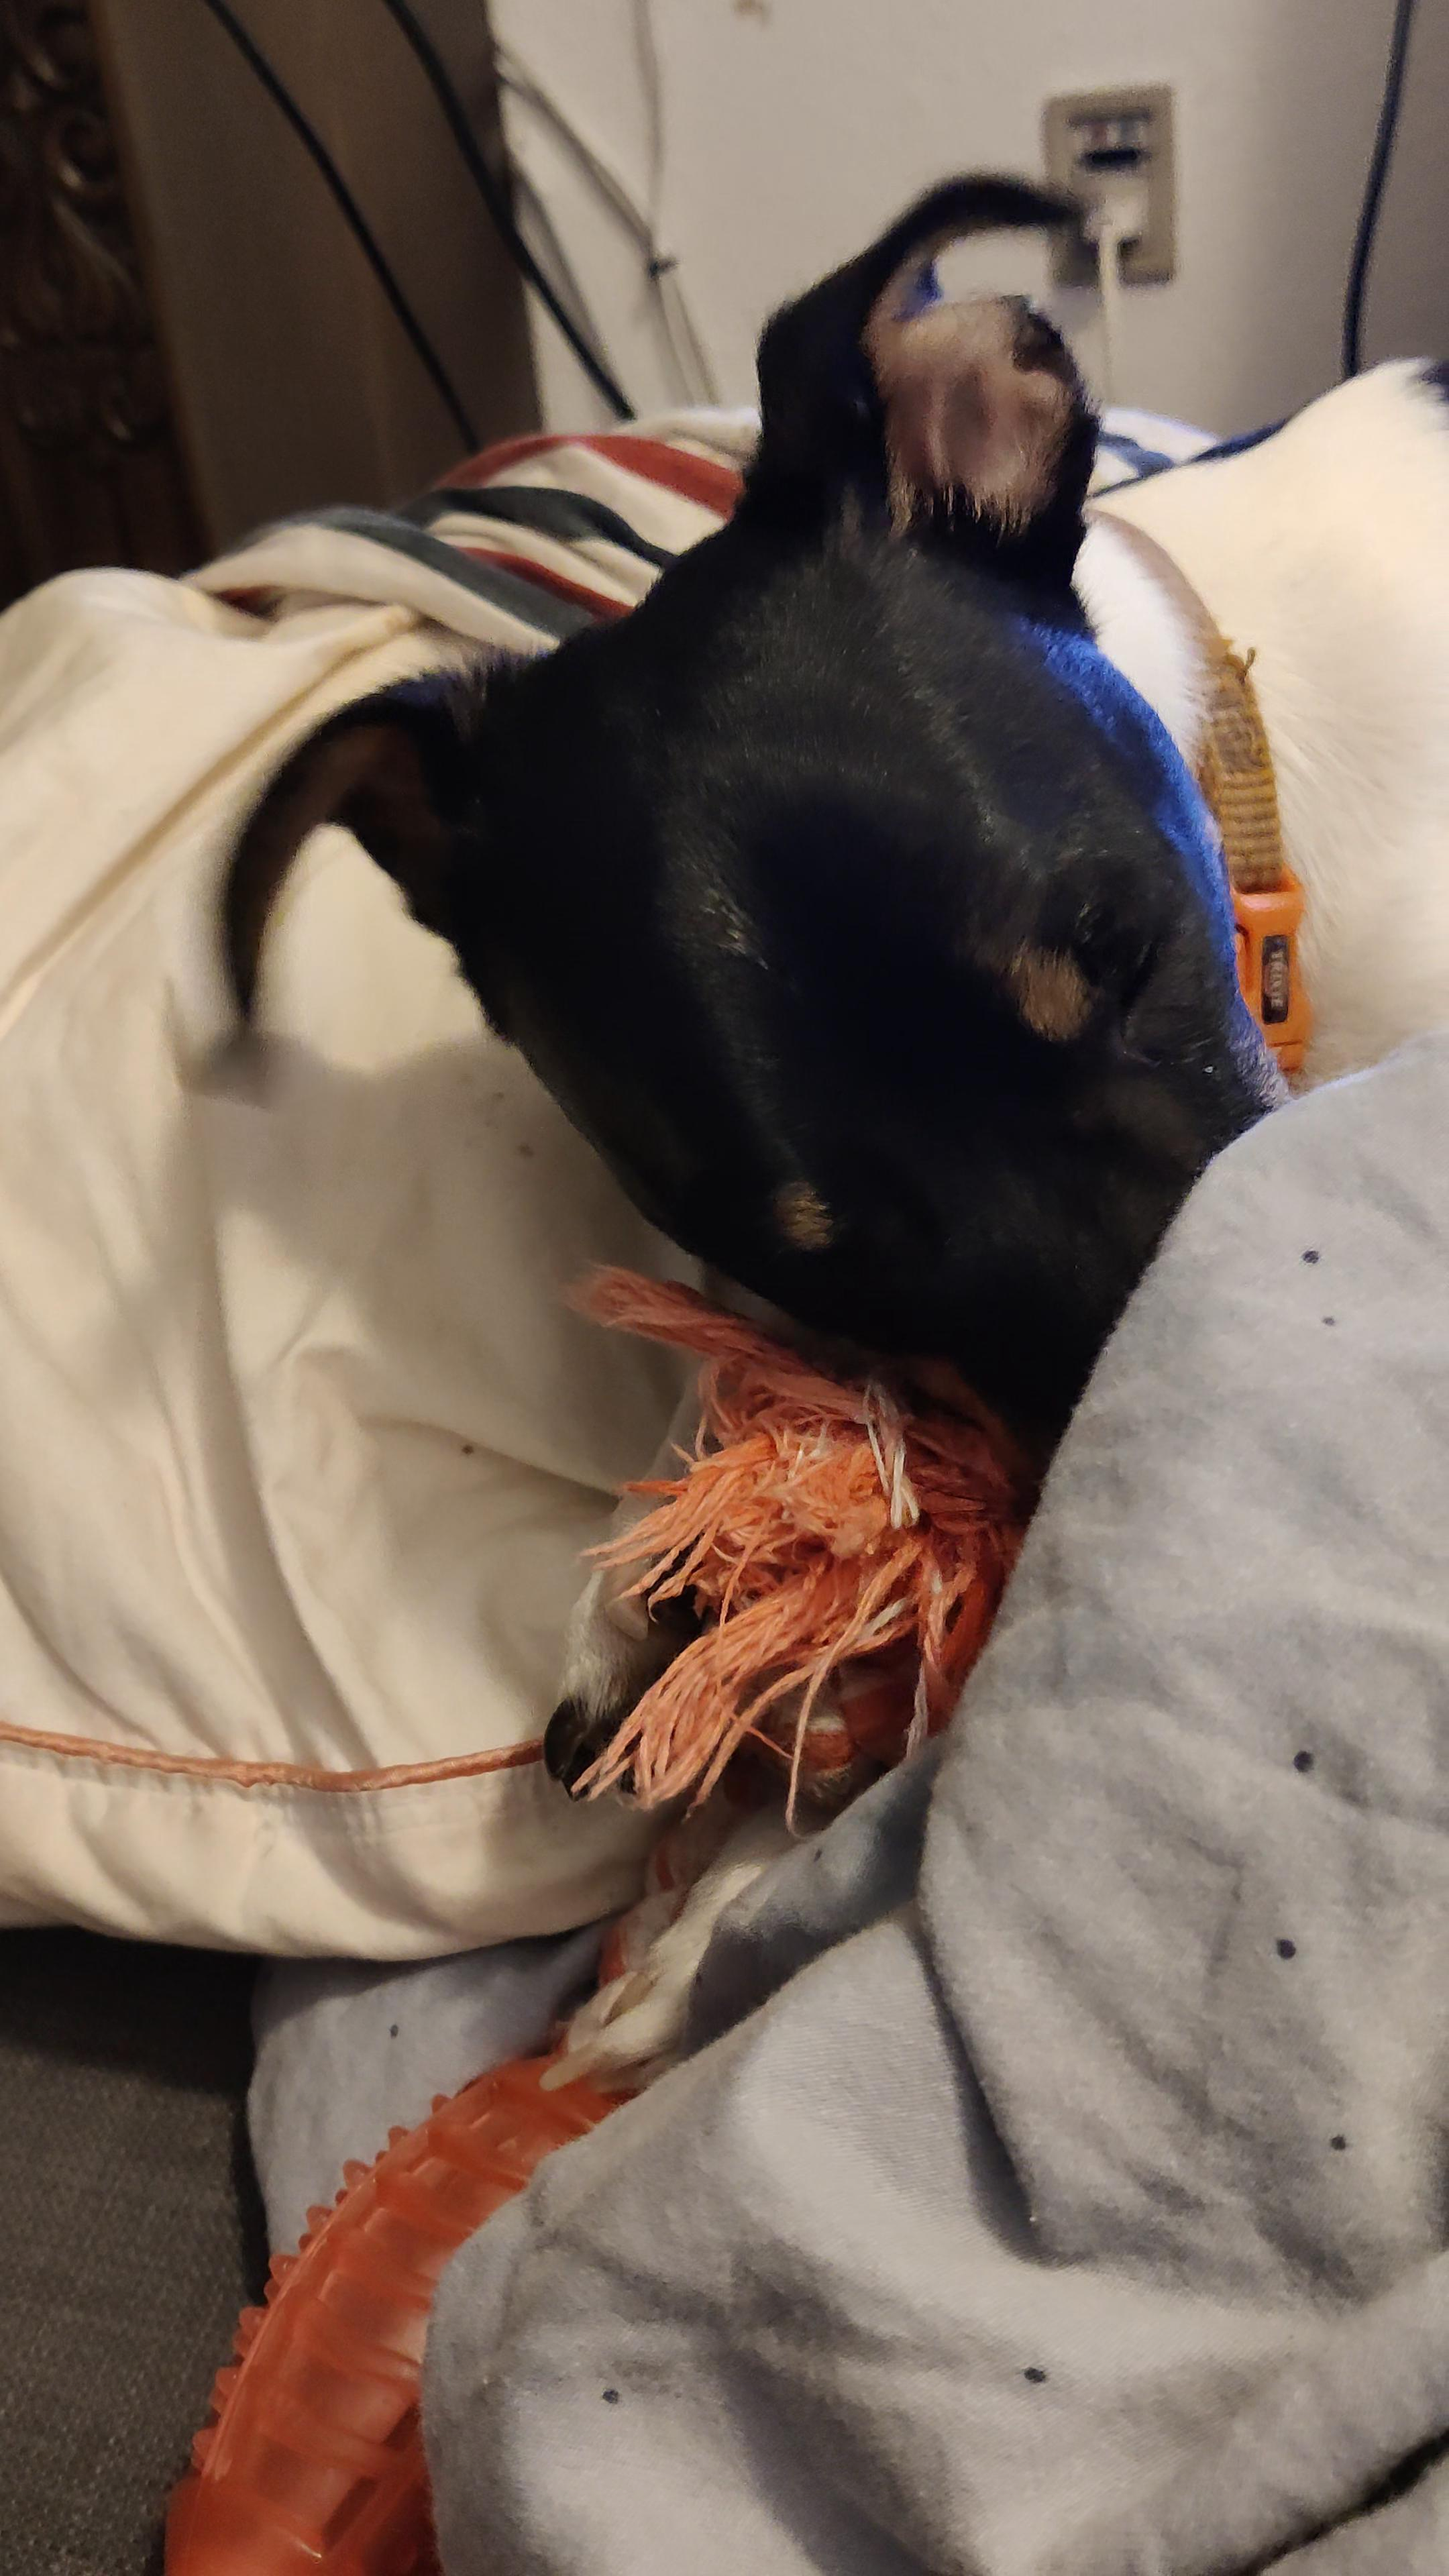Dog: (175, 159, 1449, 2116)
